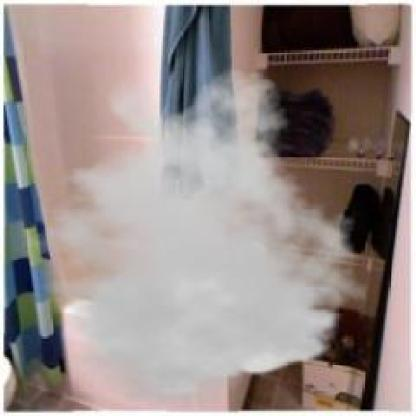Smoke: (8, 67, 375, 408)
